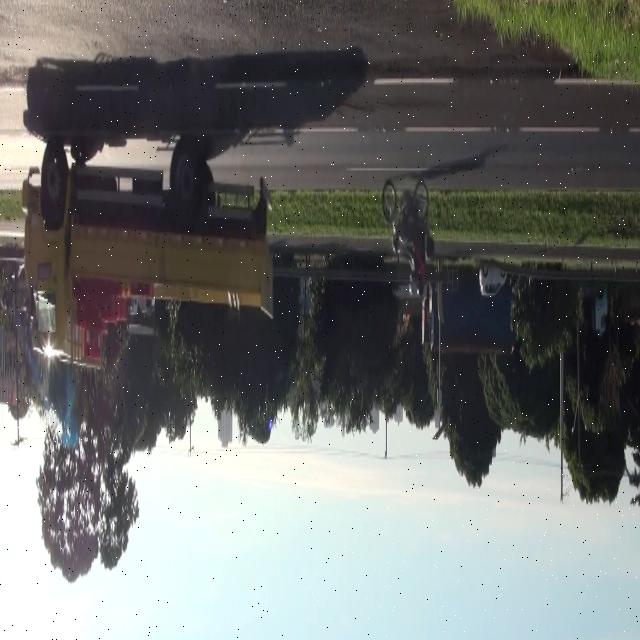-axle: (166, 148, 199, 230), (39, 130, 68, 220)
